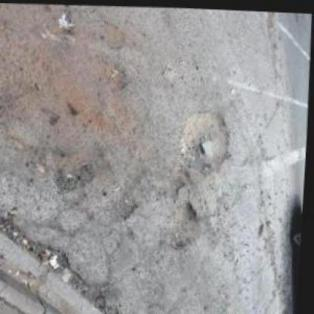Hueco: (0, 203, 112, 313), (175, 106, 235, 176), (162, 198, 206, 249), (53, 146, 99, 192)
